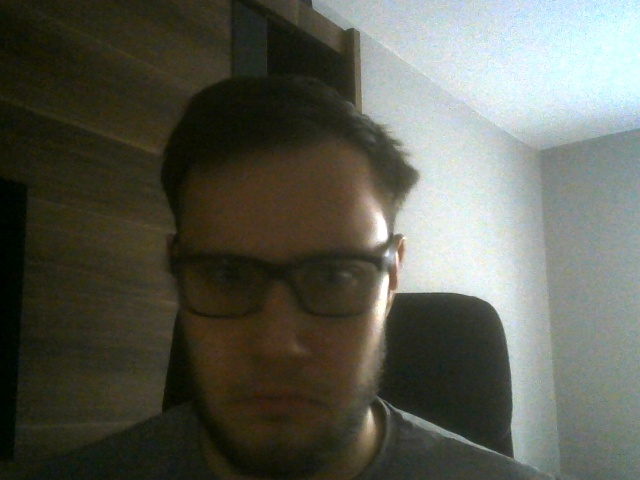angry: (165, 77, 420, 474)
